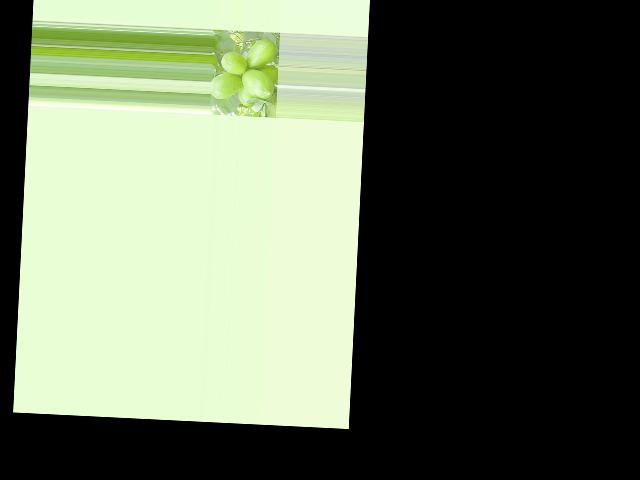lemon: (244, 37, 275, 71)
